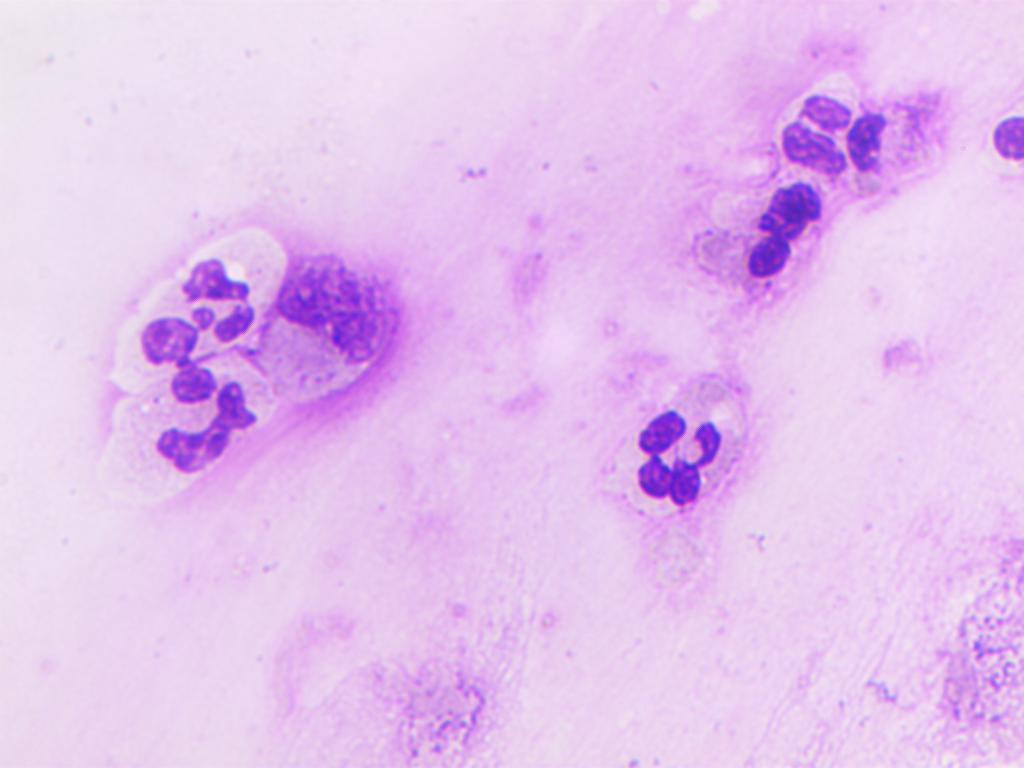neutrophil: (79, 214, 302, 358), (600, 349, 781, 525), (655, 160, 844, 306), (119, 354, 282, 498), (771, 62, 908, 210)
